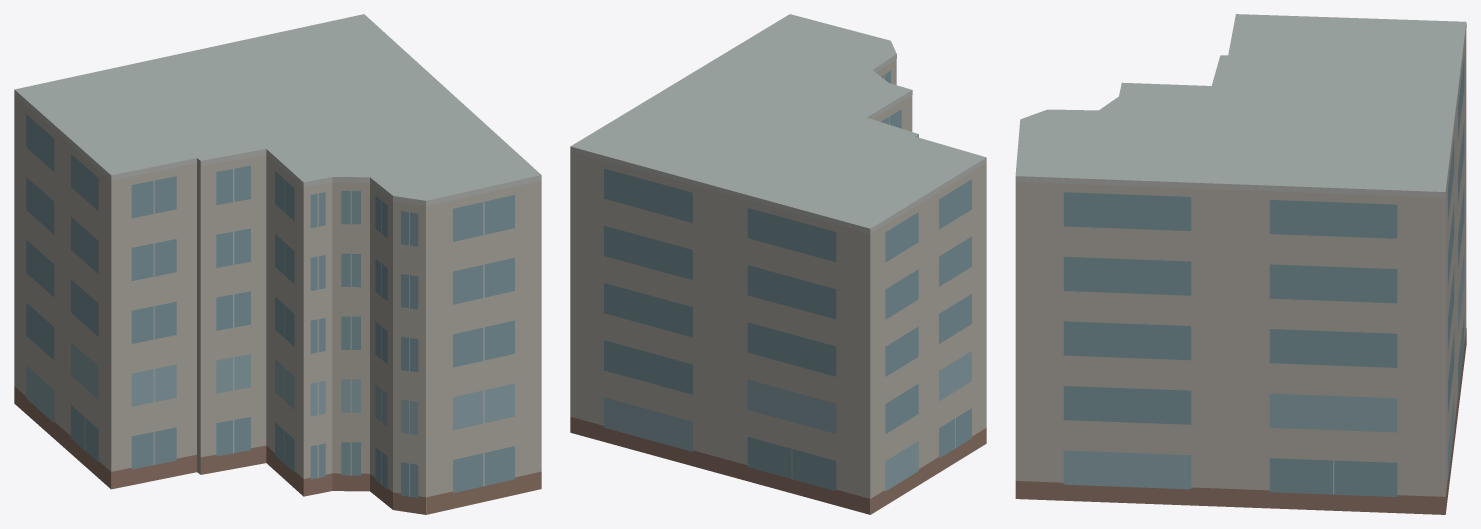
The model's file is survey-upis-32750000.glb.
3 views of the same model, side by side, from view 1: azimuth 30°, elevation 25°; view 2: azimuth 150°, elevation 25°; view 3: azimuth 270°, elevation 25° (orthographic). The views are drawn at different scales.
Parts seen in each view (by area): view 1: survey-upis-32750000.tmp; view 2: survey-upis-32750000.tmp; view 3: survey-upis-32750000.tmp.
Part boxes in pixels (x1,y1,x2,y2): survey-upis-32750000.tmp: (14, 14, 541, 514); survey-upis-32750000.tmp: (570, 14, 986, 514); survey-upis-32750000.tmp: (1015, 14, 1466, 514).
Size of the model in its own units: 16.48 by 13.92 by 17.64.
